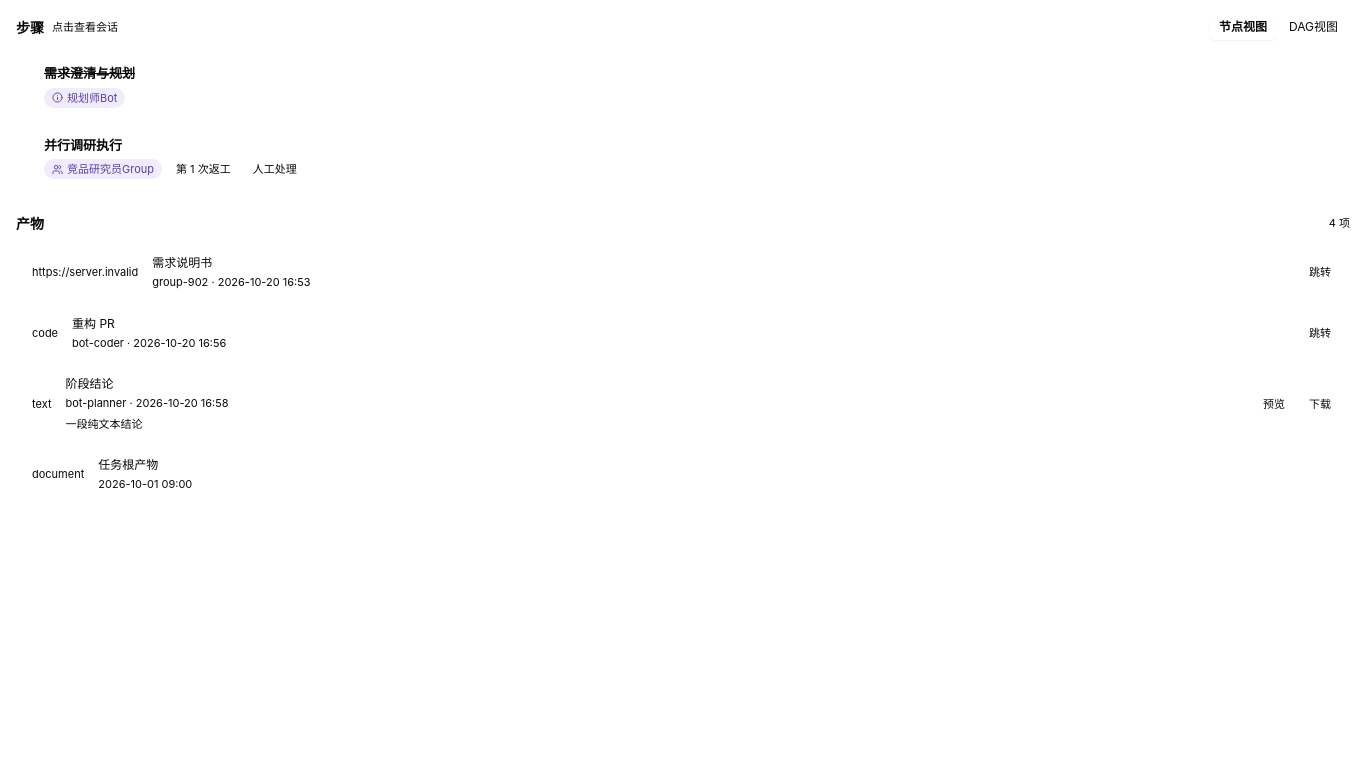
TaskOverviewV2(L1) › 纯文本产物可预览，并在下载时提示不支持
Expected: the button with aria-label "下载产物 阶段结论" is shown, [1300,392,1340,416]
Click the button with aria-label "预览产物 阶段结论" at (1274, 404), box [1254,392,1294,416]
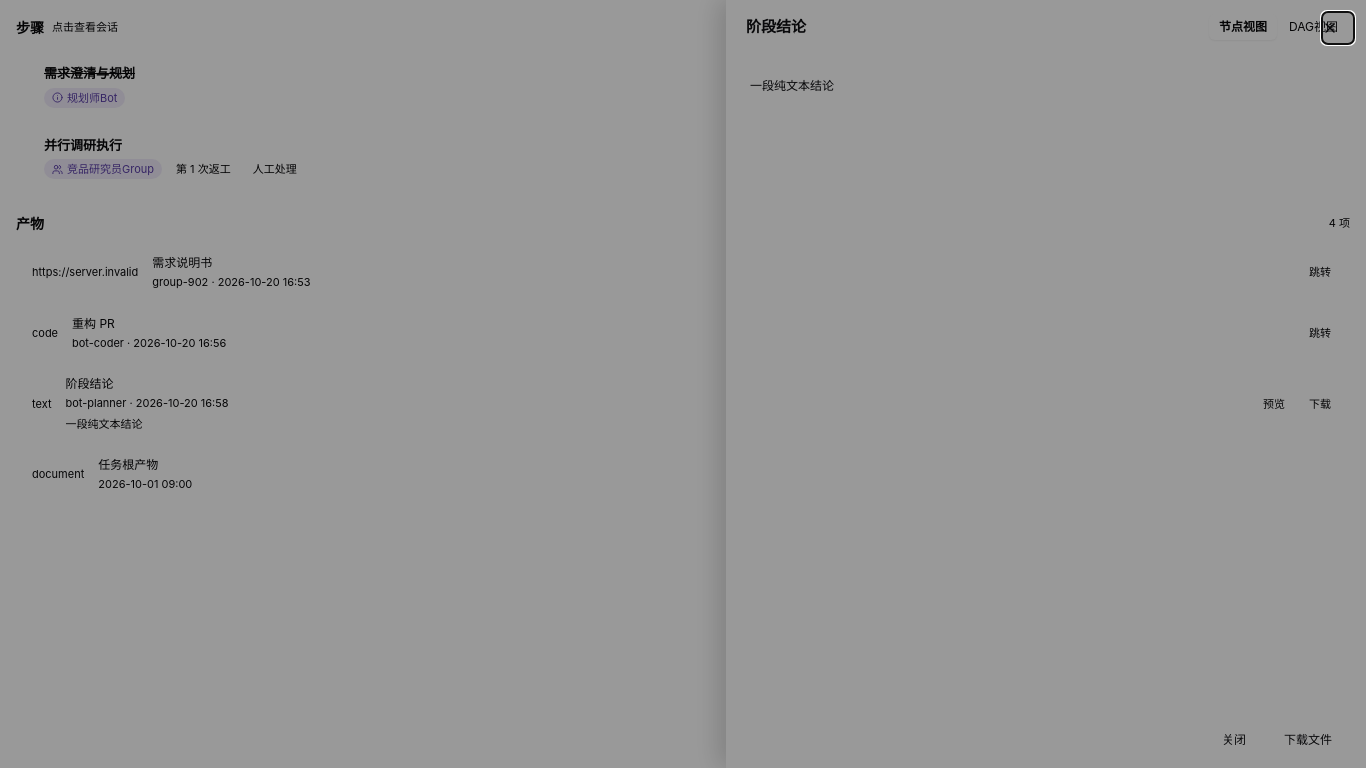
Expected: the text with test id "task-artifact-plain-text" reads "一段纯文本结论", [750,78,834,92]
Click the button "下载文件" at (1308, 740), box [1270,724,1346,756]
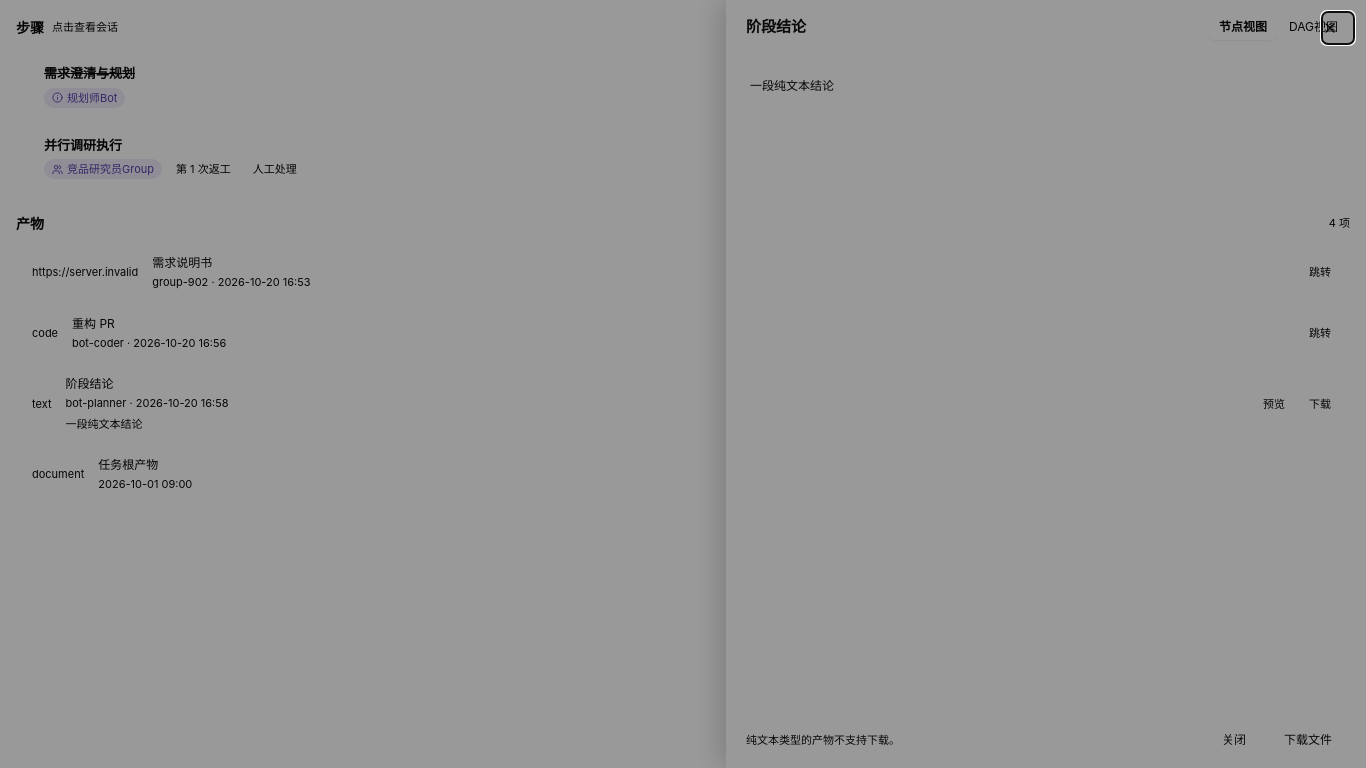
Expected: the message reads "纯文本类型的产物不支持下载。", [746,733,900,747]
Click the button "关闭" at (1234, 740), box [1208,724,1260,756]
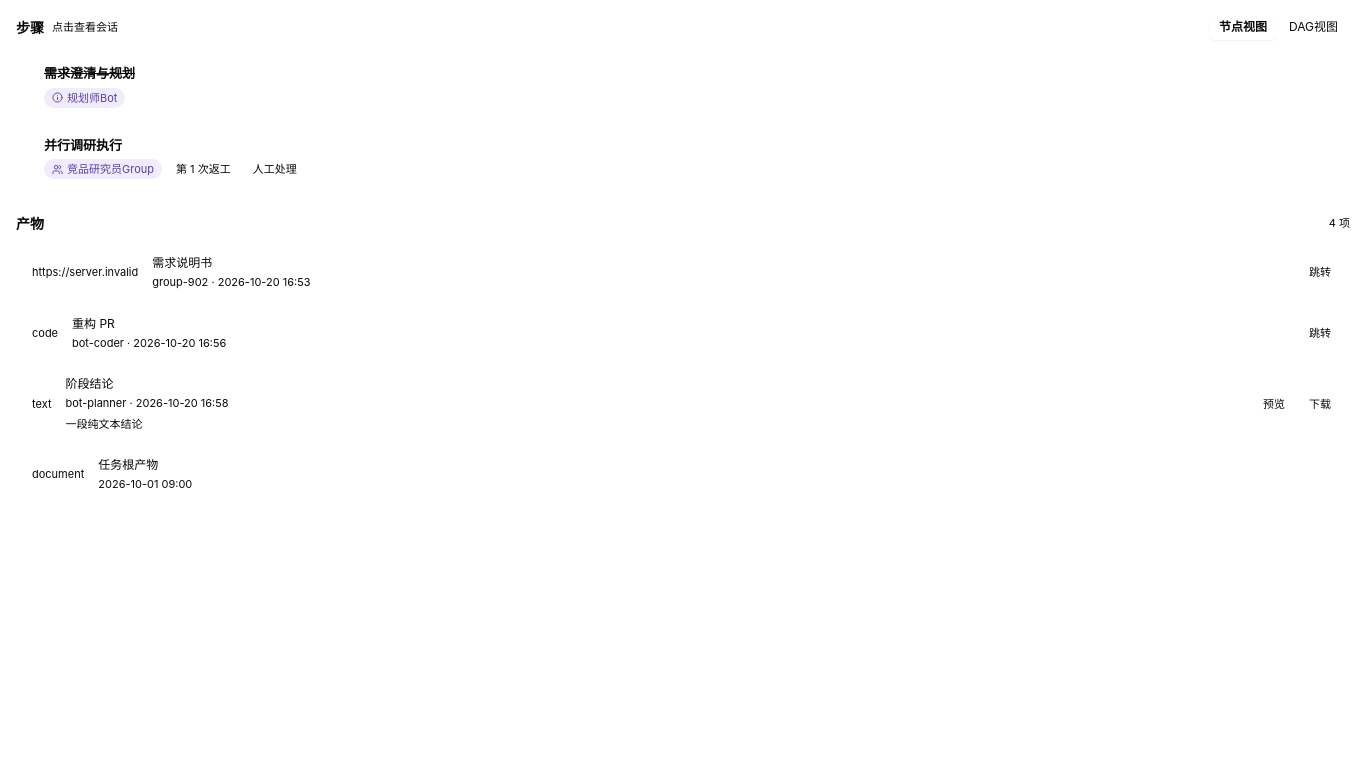
Click the button with aria-label "下载产物 阶段结论" at (1320, 404), box [1300,392,1340,416]
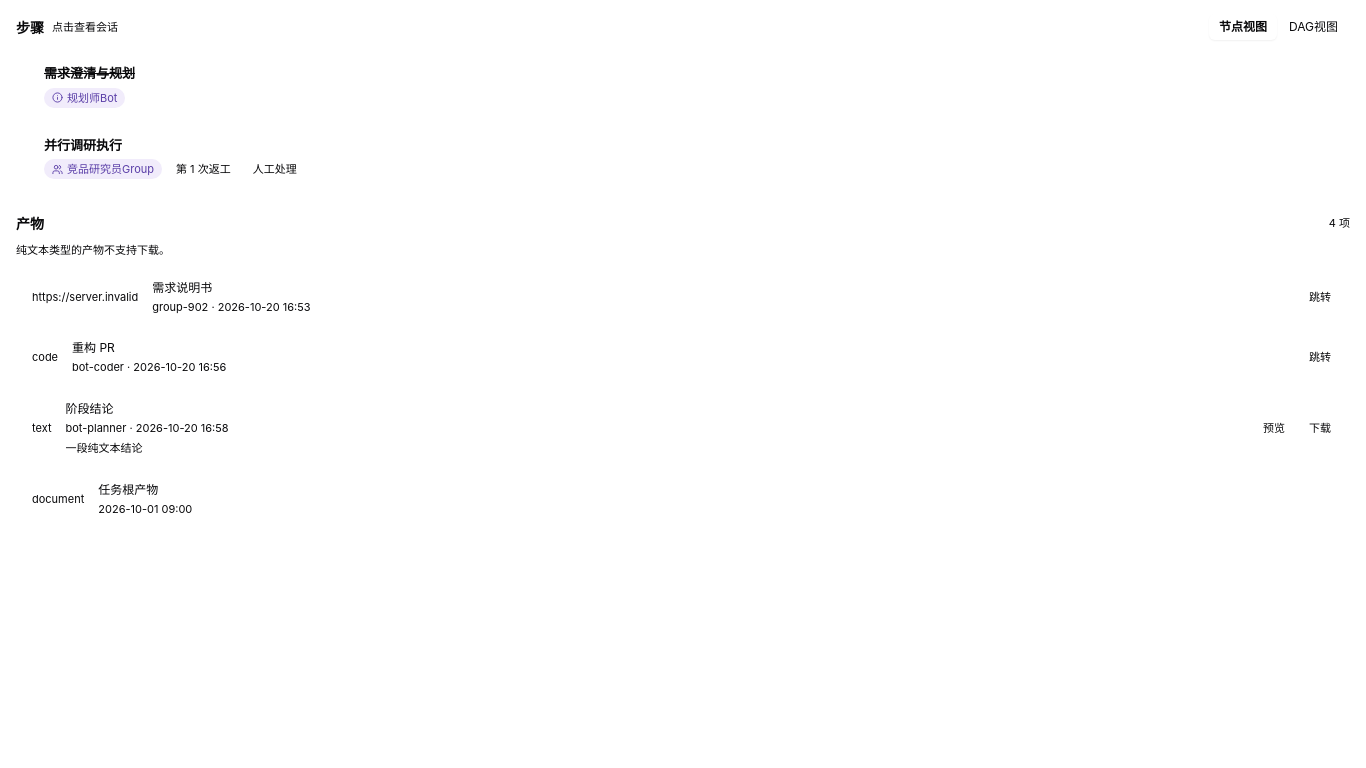
Expected: the message reads "纯文本类型的产物不支持下载。", [16,243,170,257]
